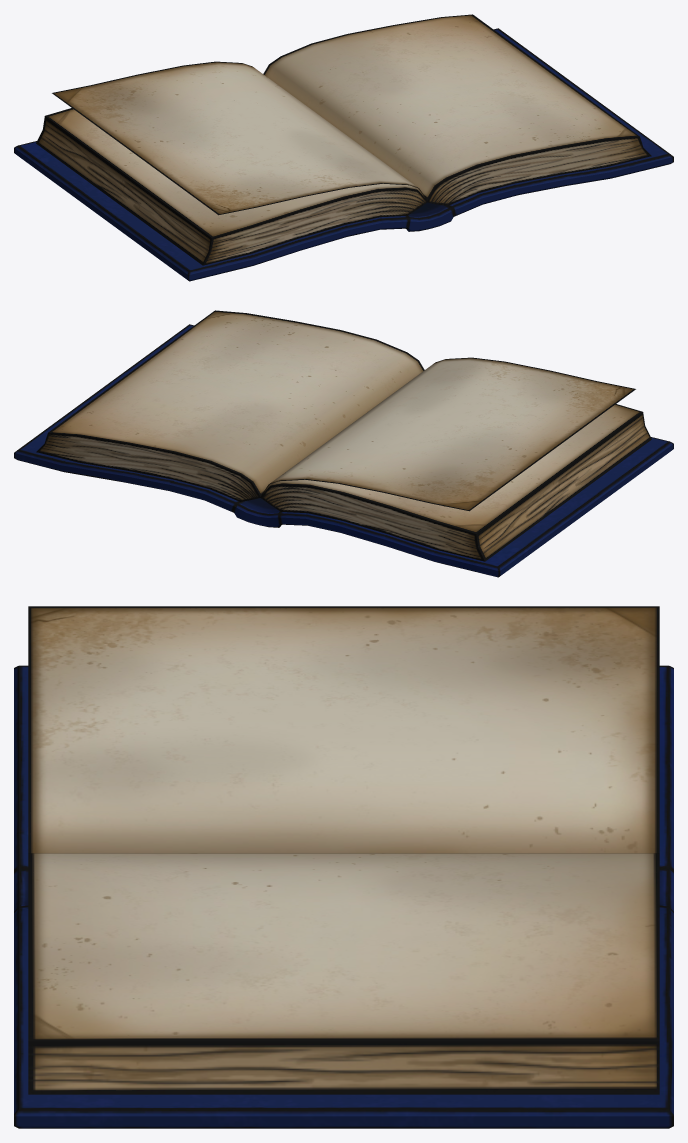
File: vaardighedenboek_MOD-v2.fbx
The picture shows the model from 3 angles, top to bottom: view 1: azimuth 30°, elevation 25°; view 2: azimuth 150°, elevation 25°; view 3: azimuth 270°, elevation 25°; orthographic projection. The views are drawn at different scales.
Visible parts, largest first — view 1: polySurface1, polySurface2; view 2: polySurface1, polySurface2; view 3: polySurface1, polySurface2.
Part boxes in pixels (x1=…): polySurface1: x1=14, y1=14, x2=673, y2=281; polySurface2: x1=52, y1=61, x2=426, y2=215; polySurface1: x1=14, y1=310, x2=673, y2=577; polySurface2: x1=261, y1=357, x2=635, y2=511; polySurface1: x1=14, y1=665, x2=673, y2=1128; polySurface2: x1=28, y1=606, x2=659, y2=853.
Bounding box in the file's own units: 12.95 × 1.61 × 8.06.
1 material, 1 textured.
